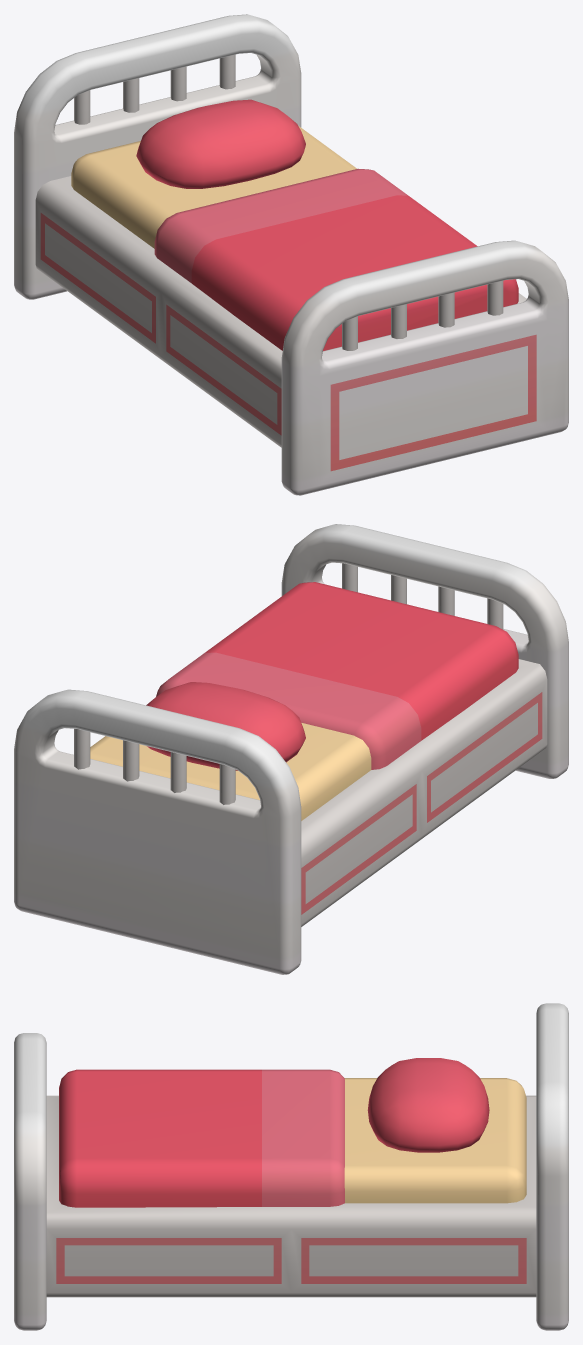
Rendered from Bed_21.glb.
3 views of the same model, one above another, from view 1: azimuth 30°, elevation 25°; view 2: azimuth 150°, elevation 25°; view 3: azimuth 270°, elevation 25° (orthographic). The views are drawn at different scales.
Visible parts, largest first — view 1: Bed_21; view 2: Bed_21; view 3: Bed_21.
Part boxes in pixels (left/top/right/bottom): Bed_21: left=14, top=14, right=568, bottom=495; Bed_21: left=14, top=524, right=568, bottom=974; Bed_21: left=14, top=1003, right=568, bottom=1330.
Size of the model in its own units: 0.96 by 0.75 by 1.7.
Materials: 1 (1 with a texture image).
